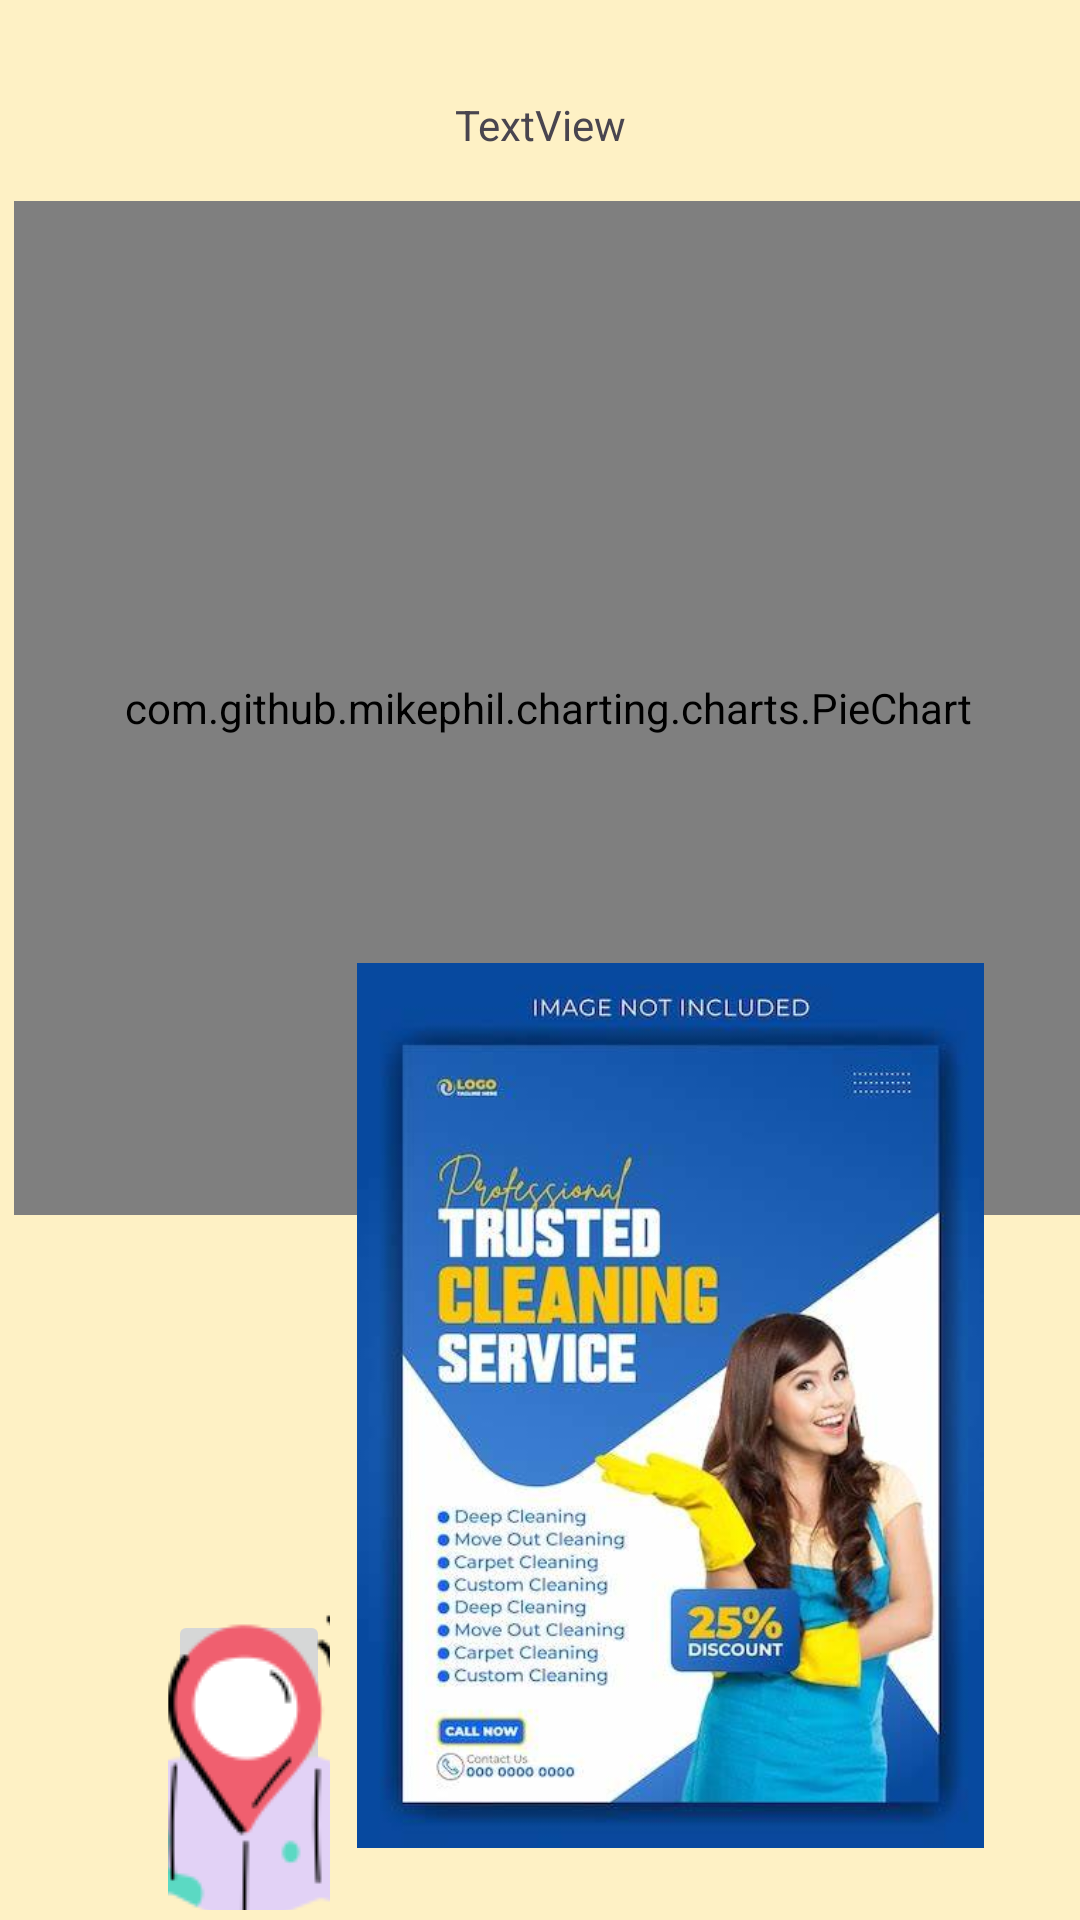

Locate icon controls on the screen. Image size 1080px×1920px, boxes as {"x1": x1, "y1": y1, "x2": x2, "y2": y2}.
map: {"x1": 168, "y1": 1615, "x2": 330, "y2": 1910}
